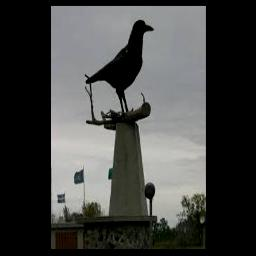Crow: (85, 19, 154, 118)
